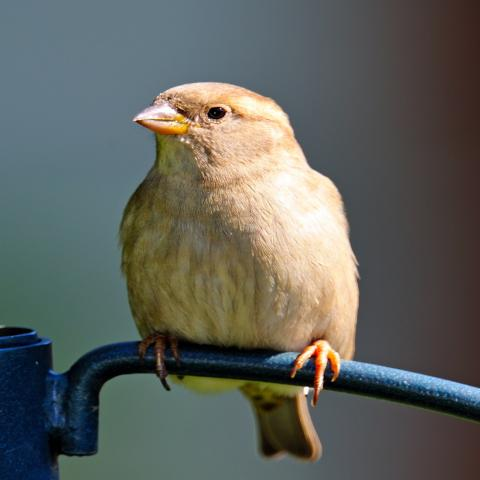bird: (116, 79, 362, 462)
